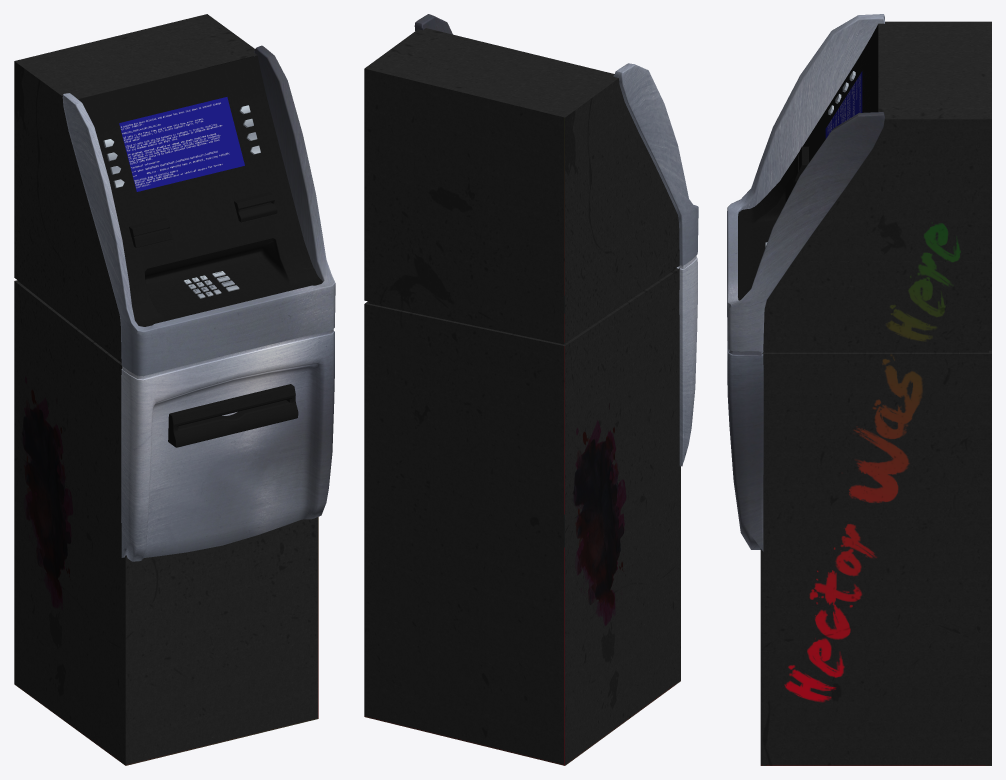
The model's file is ATM.fbx.
The picture shows the model from 3 angles, left to right: view 1: azimuth 30°, elevation 25°; view 2: azimuth 150°, elevation 25°; view 3: azimuth 270°, elevation 25°; orthographic projection. The views are drawn at different scales.
Parts seen in each view (by area): view 1: pCube1, pCube2, pCube106, pCube83, pCube81, pCube82, pCube85, pCube20; view 2: pCube1, pCube2; view 3: pCube1, pCube2, pCube106.
Boxes of the visible parts, x1=… form: pCube1: x1=14, y1=14, x2=318, y2=765; pCube2: x1=62, y1=45, x2=335, y2=561; pCube106: x1=78, y1=55, x2=322, y2=326; pCube83: x1=168, y1=384, x2=298, y2=447; pCube81: x1=234, y1=192, x2=277, y2=222; pCube82: x1=129, y1=218, x2=172, y2=247; pCube85: x1=183, y1=271, x2=239, y2=298; pCube20: x1=103, y1=105, x2=260, y2=187; pCube1: x1=364, y1=28, x2=680, y2=765; pCube2: x1=414, y1=14, x2=698, y2=466; pCube1: x1=760, y1=21, x2=991, y2=765; pCube2: x1=727, y1=14, x2=884, y2=551; pCube106: x1=738, y1=24, x2=878, y2=300.
Size of the model in its own units: 5.01 by 14.98 by 5.51.
